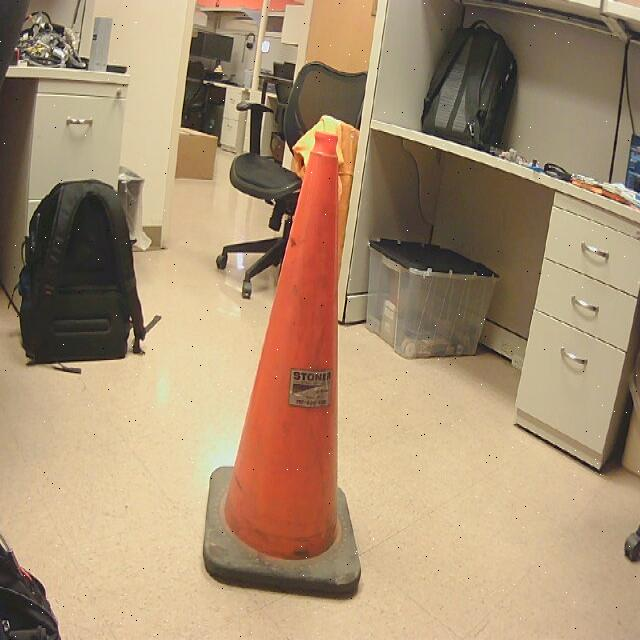traffic cone: (203, 132, 362, 601)
